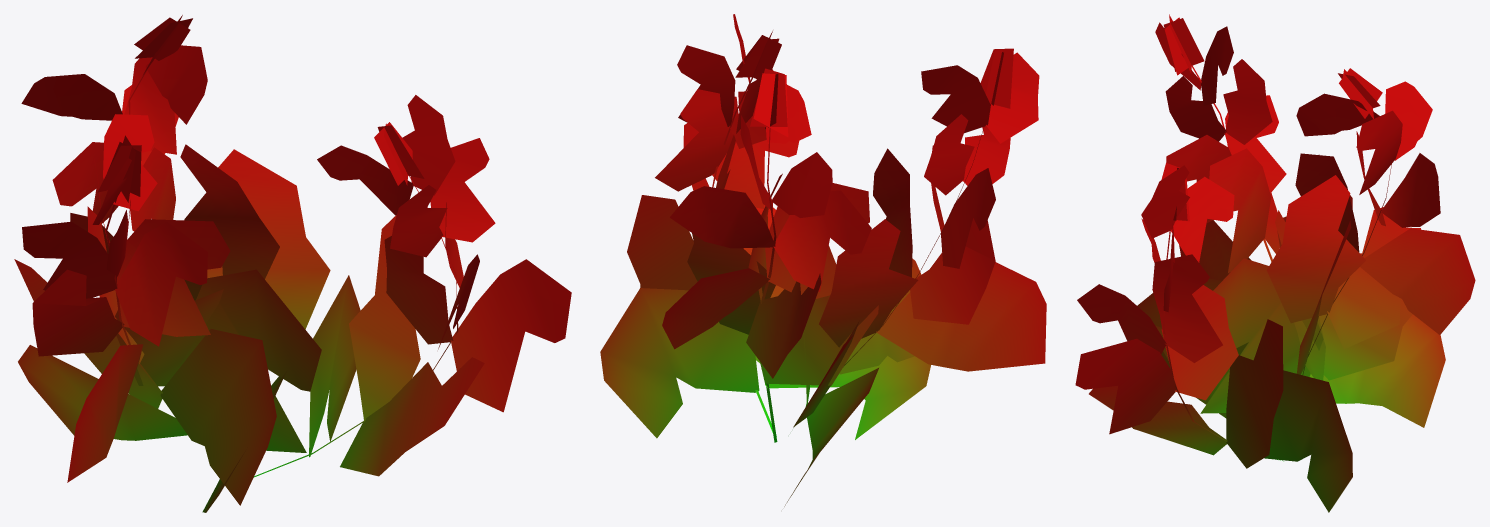
Rendered from White Ramping Fumitory_LOD3_Var2_ti4efc3ia.fbx.
3 renders of one model, left to right at view 1: azimuth 30°, elevation 25°; view 2: azimuth 150°, elevation 25°; view 3: azimuth 270°, elevation 25°, orthographic. The views are drawn at different scales.
Parts seen in each view (by area): view 1: _e4de_Var2_LOD3; view 2: _e4de_Var2_LOD3; view 3: _e4de_Var2_LOD3.
Part boxes in pixels (bbox=[...]): _e4de_Var2_LOD3: bbox=[14, 15, 571, 512]; _e4de_Var2_LOD3: bbox=[600, 14, 1046, 506]; _e4de_Var2_LOD3: bbox=[1075, 14, 1475, 512].
Size of the model in its own units: 83.04 by 80.96 by 76.5.
